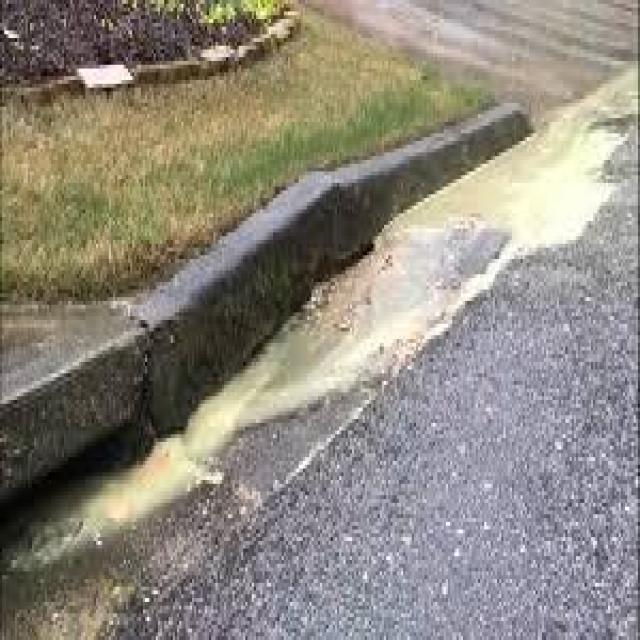curb: (136, 164, 302, 417), (1, 288, 152, 528), (323, 88, 522, 245)
